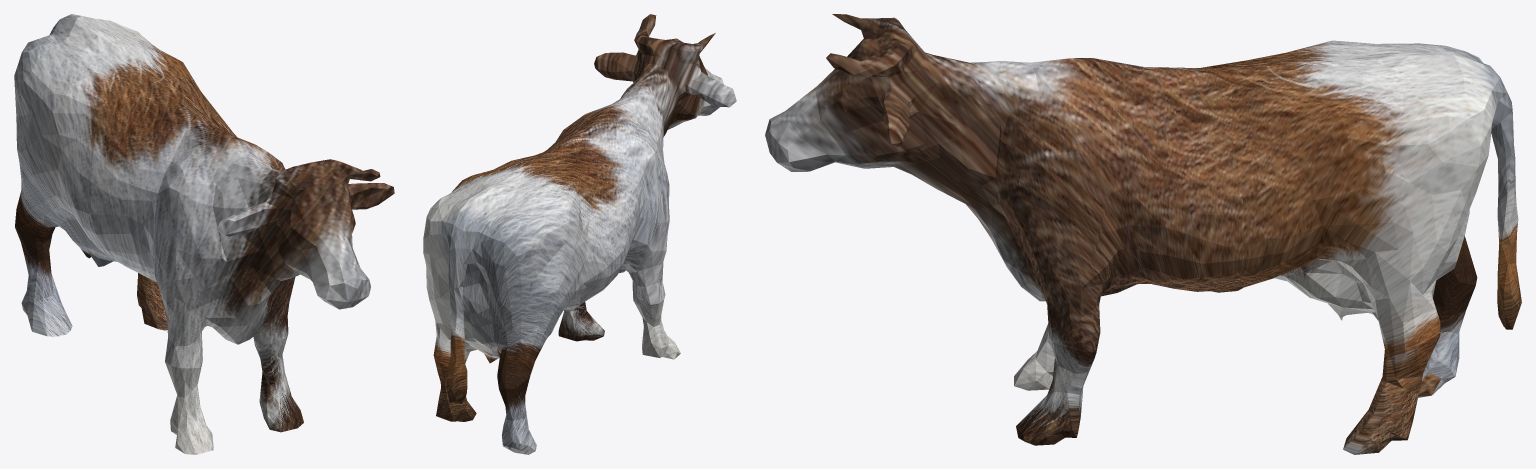
Rendered from animal-cow.fbx.
3 renders of one model, left to right at view 1: azimuth 30°, elevation 25°; view 2: azimuth 150°, elevation 25°; view 3: azimuth 270°, elevation 25°, orthographic. The views are drawn at different scales.
Visible parts, largest first — view 1: WHITE_COW:WHITE_COW_MESH.002; view 2: WHITE_COW:WHITE_COW_MESH.002; view 3: WHITE_COW:WHITE_COW_MESH.002.
Boxes of the visible parts, x1,y1,x2,y2 form: WHITE_COW:WHITE_COW_MESH.002: [14, 14, 394, 454]; WHITE_COW:WHITE_COW_MESH.002: [423, 14, 736, 454]; WHITE_COW:WHITE_COW_MESH.002: [765, 14, 1521, 454].
Bounding box in the file's own units: 56.38 × 97.62 × 174.
